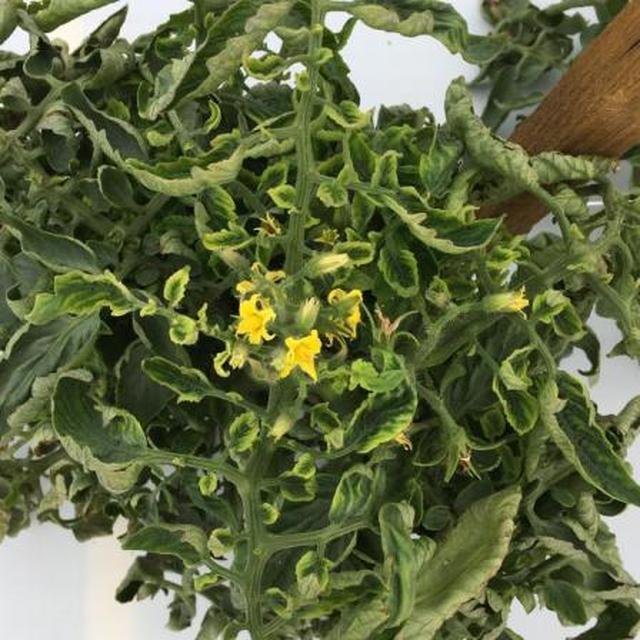Yellow Leaf Curl Virus: (40, 45, 640, 640)
